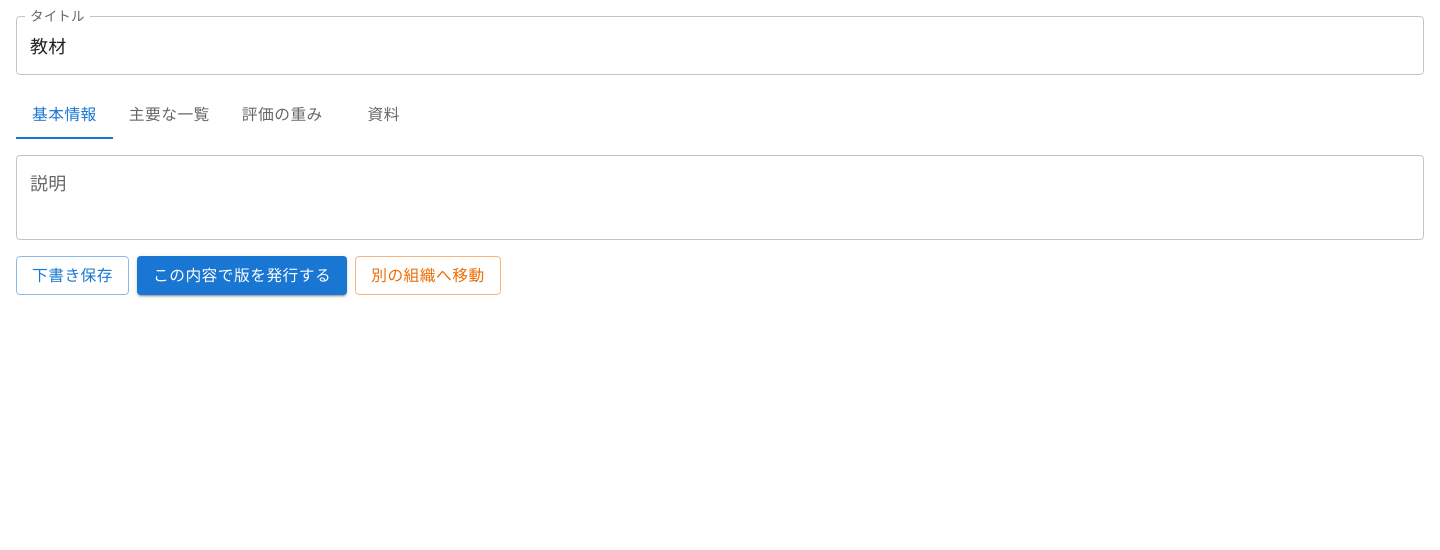
Test case: TemplateEditorPage › shows existing materials in LOCKED state but disables upload and AI regeneration
Click the tab "資料" at {"x": 384, "y": 115}, box top-left (339, 91), bottom-right (429, 139)
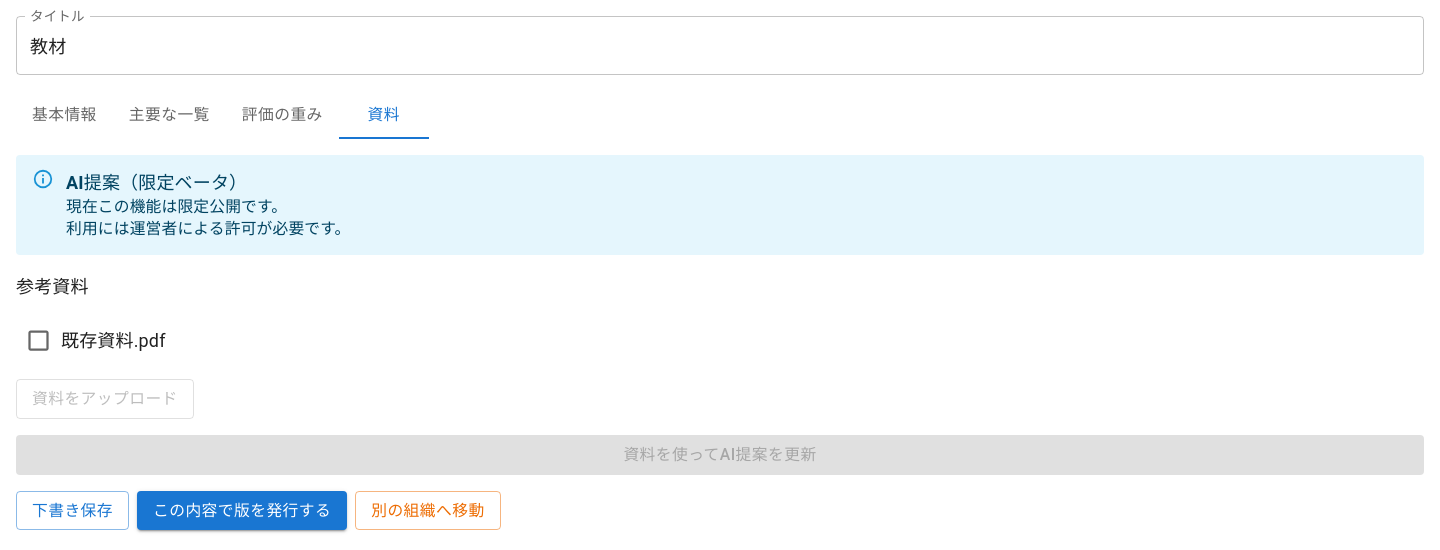
Now the text "既存資料.pdf" is shown, box top-left (61, 327), bottom-right (166, 354)
Now the text "AI提案（限定ベータ）" is shown, box top-left (66, 172), bottom-right (247, 193)
Now the text "現在この機能は限定公開です。 利用には運営者による許可が必要です。" is shown, box top-left (66, 196), bottom-right (350, 241)
